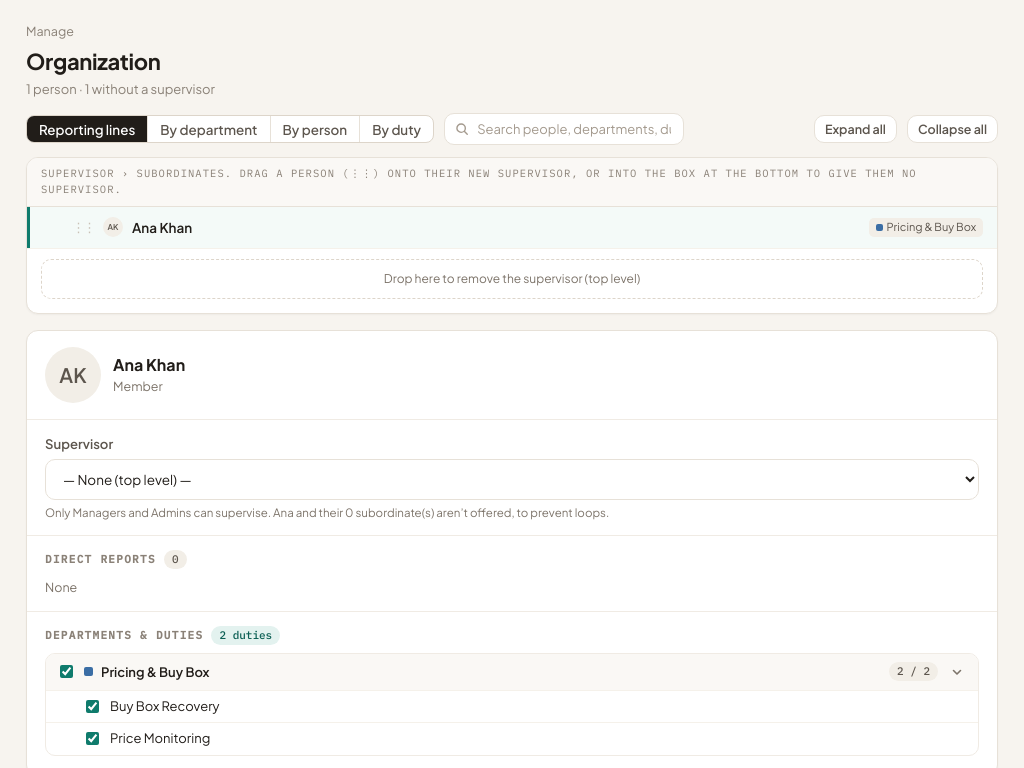
Test: OrganizationPage — duties Alert Task Setup needs › shows the server’s reason if it refuses the save
Click the checkbox labelled "Buy Box Recovery" at (92, 706), box [86,700,99,713]
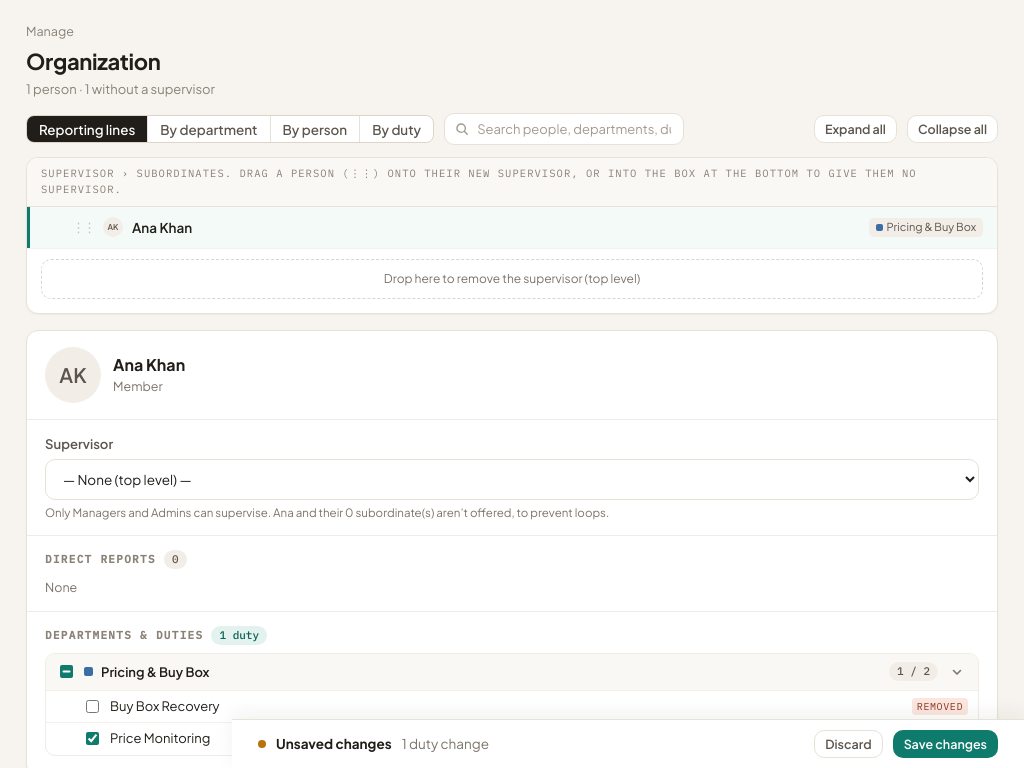
Click the button "Save changes" at (945, 744), box [893,730,998,758]
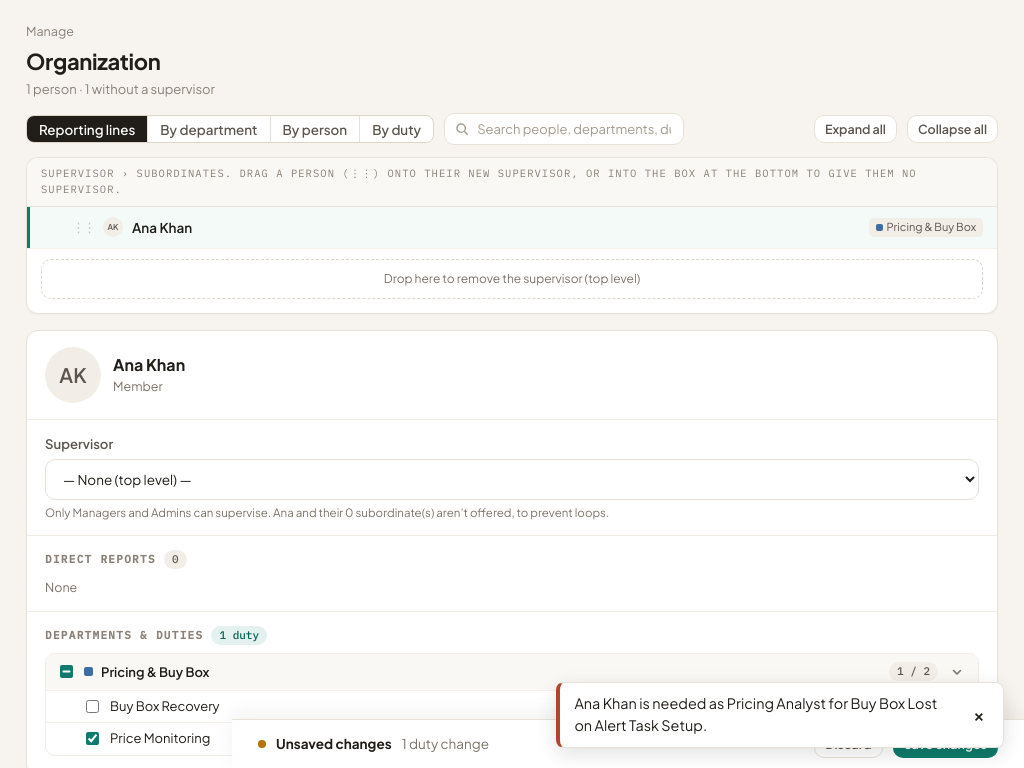
expect the text "Ana Khan is needed as Pricing Analyst for Buy Box Lost on Alert Task Setup." is shown: met, box [574,693,957,737]
